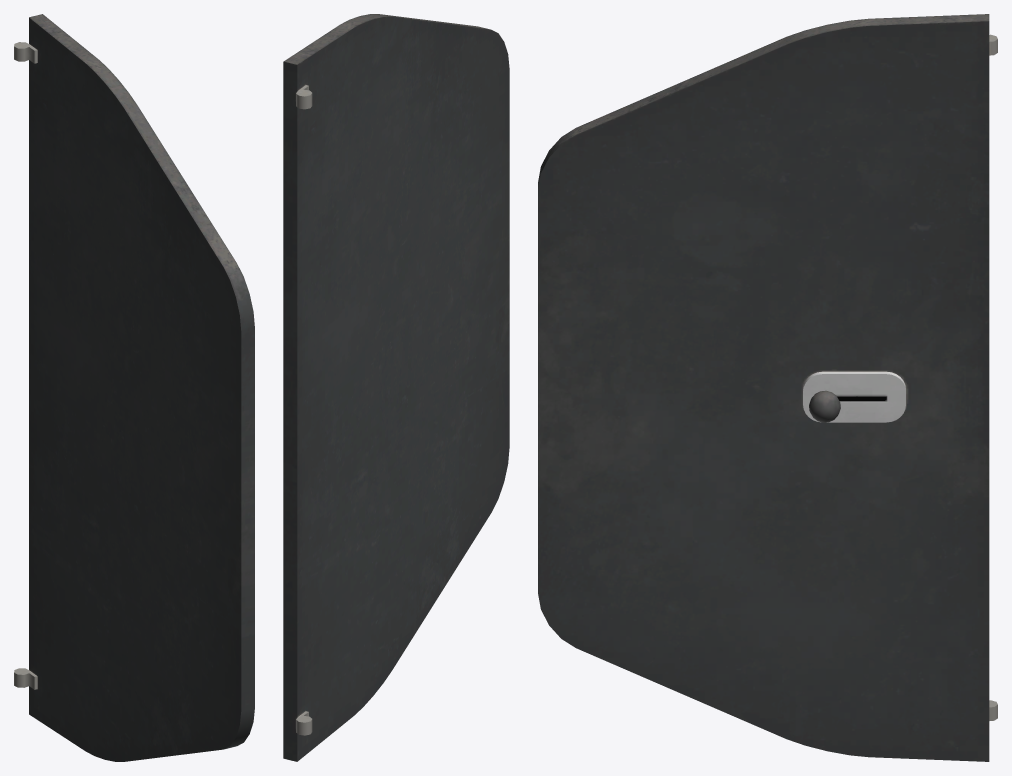
File: SM_Lane_Divider_Door_01c.glb
3 views of the same model, side by side, from view 1: azimuth 30°, elevation 25°; view 2: azimuth 150°, elevation 25°; view 3: azimuth 270°, elevation 25° (orthographic). The views are drawn at different scales.
Visible parts, largest first — view 1: SM_Lane_Divider_Door_01c; view 2: SM_Lane_Divider_Door_01c; view 3: SM_Lane_Divider_Door_01c.
Boxes of the visible parts, x1=… form: SM_Lane_Divider_Door_01c: x1=14, y1=14, x2=254, y2=761; SM_Lane_Divider_Door_01c: x1=283, y1=14, x2=509, y2=761; SM_Lane_Divider_Door_01c: x1=538, y1=14, x2=997, y2=761.
Bounding box in the file's own units: 0.1088 × 1.18 × 0.6614.
Materials: 1 (1 with a texture image).
